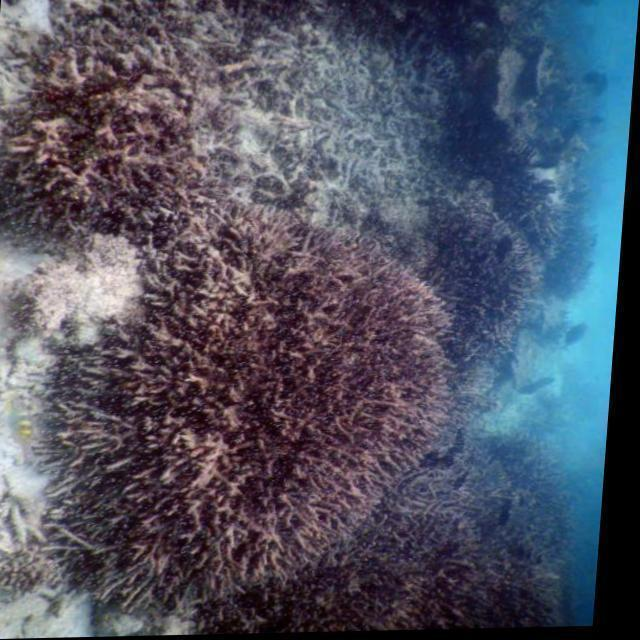Dead Coral: (49, 214, 559, 638), (0, 0, 240, 275)
